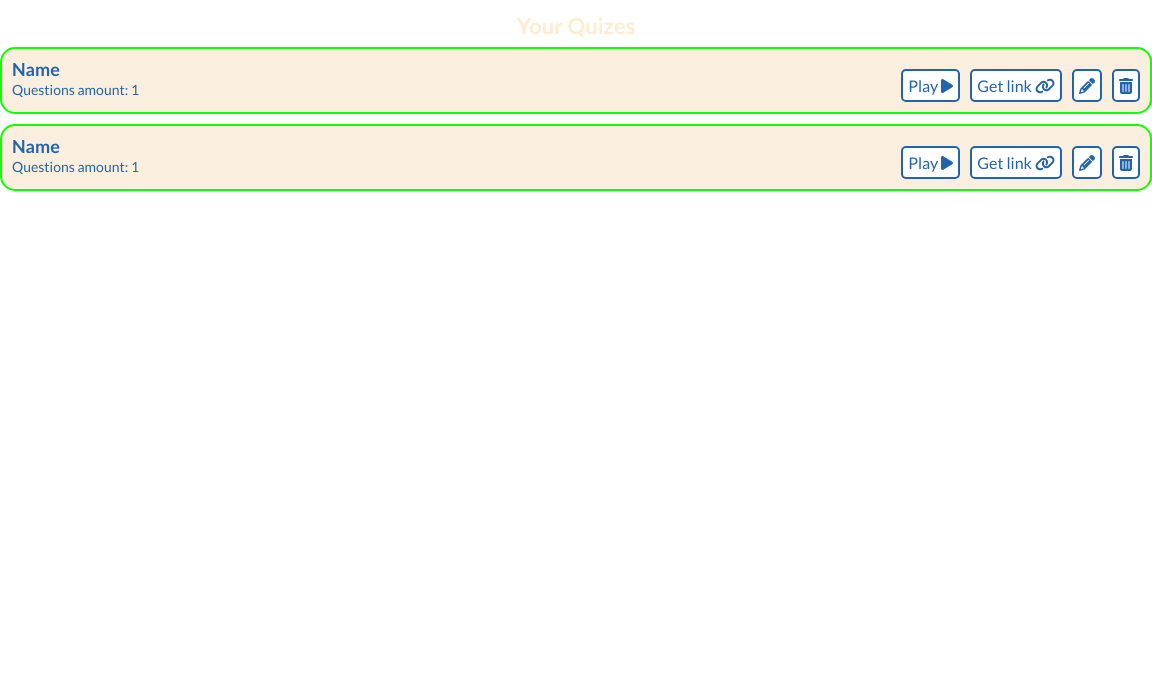
Test case: edit modal tests › should add questions
What coordinates should you click on to do the following:
click the 1st button with test id "edit-btn"
I would click on:
 (1087, 86)
Its box is [1072,69,1102,102].
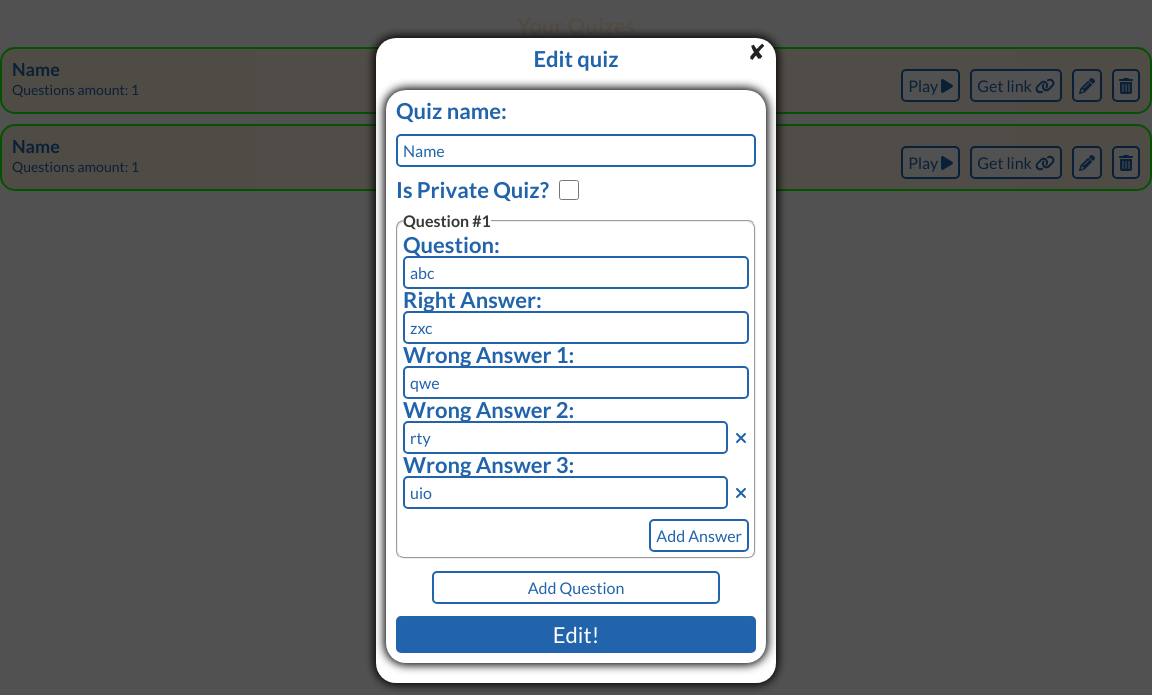
What coordinates should you click on to do the following:
click the button with test id "add-question-btn"
I would click on:
 (576, 587)
Its box is [432,570,720,604].
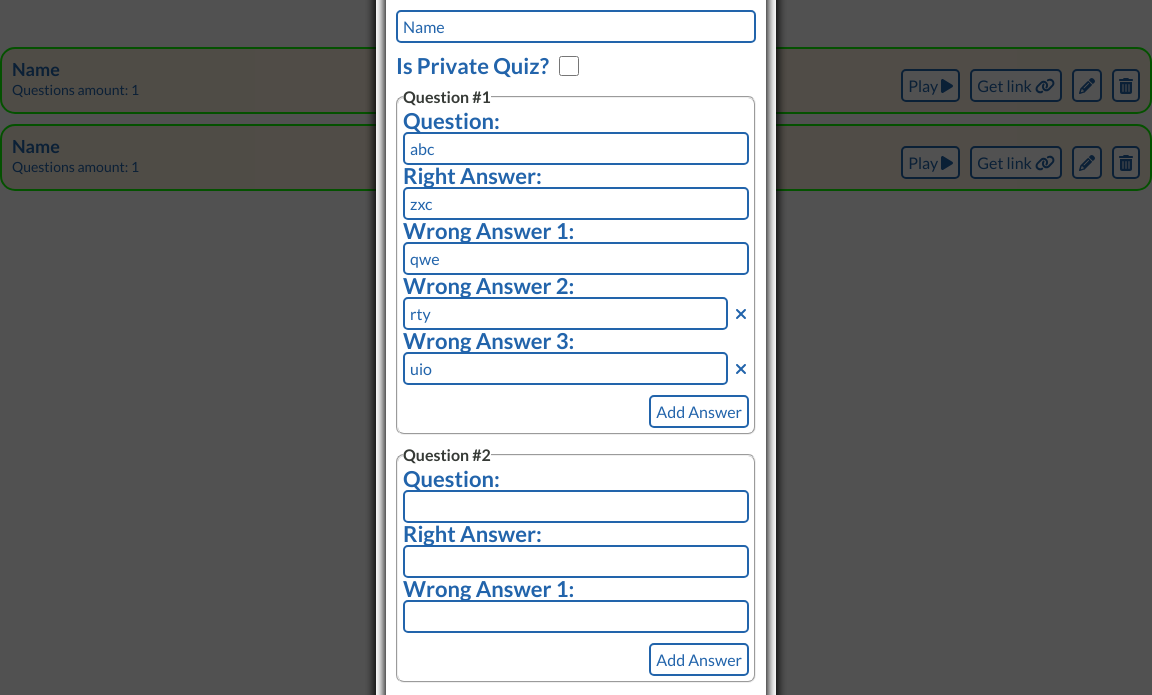
Result: the number of elements with test id "create-form-item" is 2 at [396,88,756,434]; [396,446,756,682]
